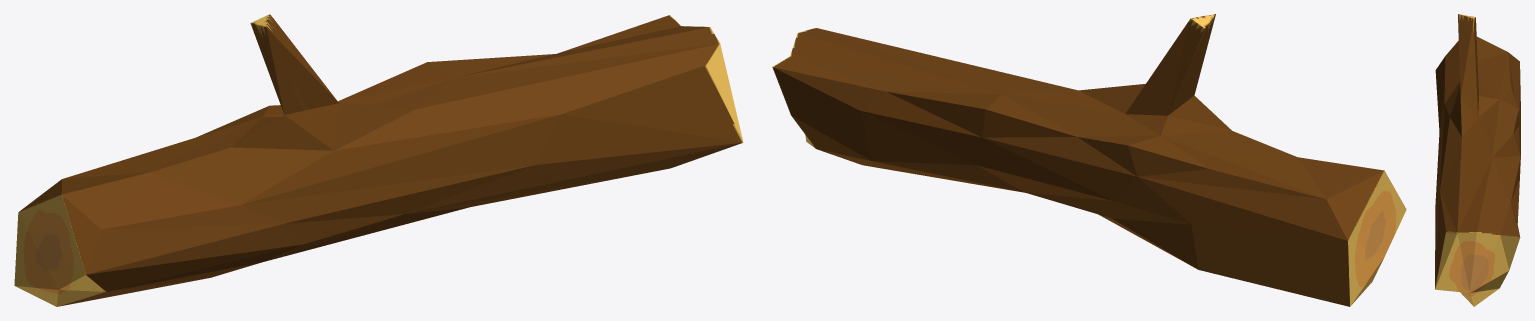
The model's file is Driftwood2.obj.
3 views of the same model, side by side, from view 1: azimuth 30°, elevation 25°; view 2: azimuth 150°, elevation 25°; view 3: azimuth 270°, elevation 25° (orthographic). The views are drawn at different scales.
Parts seen in each view (by area): view 1: 立方体; view 2: 立方体; view 3: 立方体.
Part boxes in pixels (x1,y1,x2,y2): 立方体: [14, 14, 743, 306]; 立方体: [772, 14, 1406, 306]; 立方体: [1435, 14, 1520, 306].
Size of the model in its own units: 64.27 by 22.88 by 11.49.
Materials: 1 (1 with a texture image).
